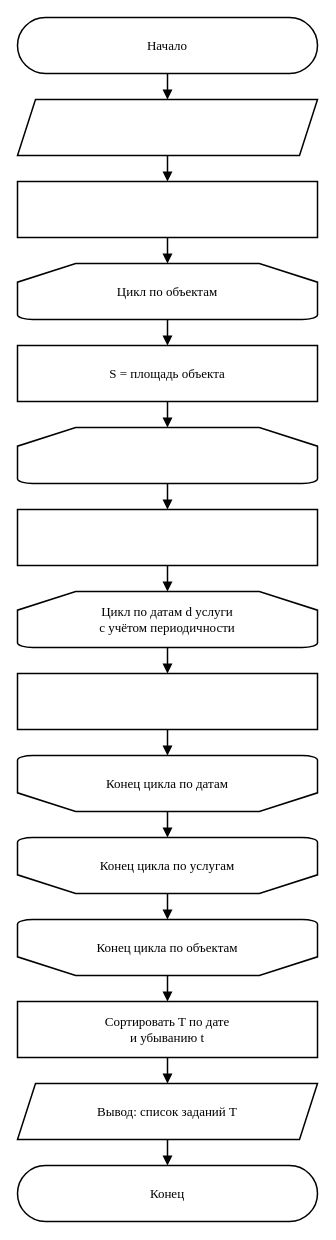
This 336x1240 diagram has some shape labels left out. Each missing label, with the box of its shape:
t = S · норма времени / 6000: (16, 508, 318, 566)
Ввод: объекты, услуги, год, месяц, праздничные дни: (16, 98, 318, 156)
Добавить в T задание (d, объект, услуга, t): (16, 672, 318, 730)
Список заданий T пуст: (16, 180, 318, 238)
Цикл по услугам объекта: (16, 426, 318, 484)
